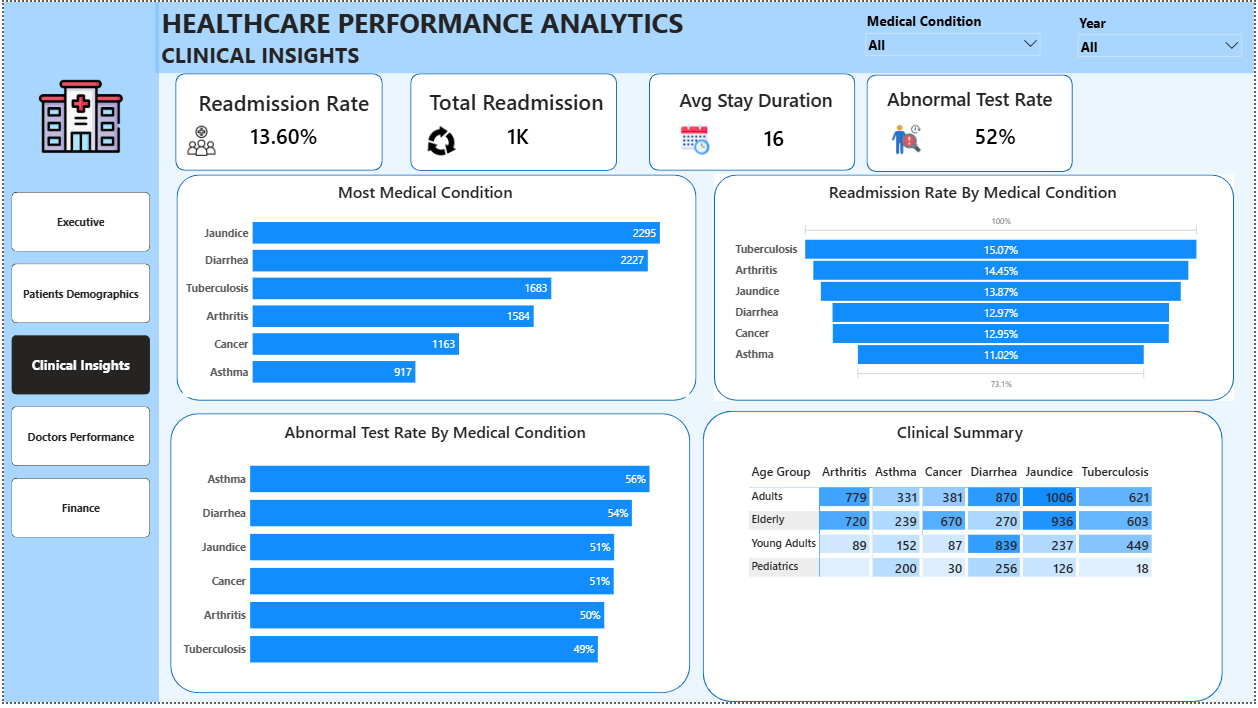

Layout of this report page (visuals, bound fields, positions):
{"tool":"powerbi","page":{"name":"Clinical Insights","canvas":[2500,1400],"ordinal":2},"visuals":[{"type":"shape","box":[0,0,310,1400],"z":0},{"type":"shape","box":[1812.5,143,412.5,195],"z":1000},{"type":"shape","box":[302.5,0,2197.5,142.5],"z":2000},{"type":"shape","box":[1290.6,143,412.5,195],"z":3000},{"type":"textbox","box":[310,0,2190,142.5],"z":4000},{"type":"shape","box":[813.7,142.5,413.6,195.5],"z":5000},{"type":"slicer","fields":{"Values":["Healthcare Dataset.Medical Condition"]},"box":[1713.6,15,370,102.5],"z":6000},{"type":"shape","box":[342.9,142.5,415,195],"z":7000},{"type":"slicer","fields":{"Values":["Date_Table.Year"]},"box":[2138.6,17.5,347.5,100],"z":8000},{"type":"cardVisual","fields":{"Data":["_Measures.Total Patients"]},"box":[422.9,217.5,275,97.5],"z":9000},{"type":"image","box":[65,145,177.5,167.5],"z":10000},{"type":"textbox","box":[375.4,167.5,370,72.5],"z":11000},{"type":"image","box":[1835,242.5,100,60],"z":12000},{"type":"cardVisual","fields":{"Data":["_Measures.Male Count"]},"box":[897.8,217.5,261.4,97.7],"z":13000},{"type":"image","box":[1332.5,245,100,60],"z":14000},{"type":"textbox","box":[841,165.2,370.5,72.7],"z":15000},{"type":"image","box":[824.1,247.5,100,60],"z":16000},{"type":"cardVisual","fields":{"Data":["_Measures.Female Count"]},"box":[1420.6,220.5,240,100],"z":17000},{"type":"image","box":[345.4,247.5,100,60],"z":18000},{"type":"textbox","box":[1316.7,165.6,372.5,72.5],"z":19000},{"type":"shape","box":[344.6,345.9,1040,452.5],"z":20000},{"type":"cardVisual","fields":{"Data":["_Measures.Avg Age"]},"box":[1942.5,220.5,235,100],"z":21000},{"type":"textbox","box":[574.8,351.6,535,52.5],"z":22000},{"type":"textbox","box":[1837.5,165.5,372.5,72.5],"z":23000},{"type":"shape","box":[1420.2,345,1040,452.5],"z":24000},{"type":"shape","box":[332.5,822.5,1040,560],"z":25000},{"type":"shape","box":[1397.5,817.5,1040,582.5],"z":26000},{"type":"textbox","box":[528.8,832.5,665,55],"z":27000},{"type":"textbox","box":[1624.7,352.5,625,52.5],"z":28000},{"type":"textbox","box":[1631.2,825,550,52.5],"z":29000},{"type":"pageNavigator","box":[15,380,277.5,695],"z":30000},{"type":"clusteredBarChart","title":"Most Medical Condition","fields":{"Category":["Healthcare Dataset.Medical Condition"],"Y":["_Measures.Total Patients"]},"box":[357.5,405,1012.5,385],"z":32000},{"type":"funnel","fields":{"Category":["Healthcare Dataset.Medical Condition"],"Y":["_Measures.Readmission Rate"]},"box":[1457.5,417.5,937.5,365],"z":33000},{"type":"pivotTable","fields":{"Rows":["Healthcare Dataset.Age Group"],"Columns":["Healthcare Dataset.Medical Condition"],"Values":["_Measures.Total Patients"]},"box":[1500,932.5,867.5,377.5],"z":34000},{"type":"barChart","fields":{"Y":["_Measures.Abnormal Test Rate %"],"Category":["Healthcare Dataset.Medical Condition"]},"box":[352.5,887.5,992.5,467.5],"z":35000}]}

Visuals, with their boxes in screenshot pixels (x1, y1, x2, y2), scaled from the page's 2500x1400 canvas onto the 1258x708 screenshot:
shape: Rect(0, 0, 156, 707)
shape: Rect(912, 72, 1120, 171)
shape: Rect(152, 0, 1257, 72)
shape: Rect(649, 72, 857, 171)
textbox: Rect(156, 0, 1257, 72)
shape: Rect(409, 72, 618, 171)
slicer - Healthcare Dataset.Medical Condition: Rect(862, 8, 1048, 59)
shape: Rect(173, 72, 381, 171)
slicer - Date_Table.Year: Rect(1076, 9, 1251, 59)
cardVisual - _Measures.Total Patients: Rect(213, 110, 351, 159)
image: Rect(33, 73, 122, 158)
textbox: Rect(189, 85, 375, 121)
image: Rect(923, 123, 974, 153)
cardVisual - _Measures.Male Count: Rect(452, 110, 583, 159)
image: Rect(671, 124, 721, 154)
textbox: Rect(423, 84, 610, 120)
image: Rect(415, 125, 465, 156)
cardVisual - _Measures.Female Count: Rect(715, 112, 836, 162)
image: Rect(174, 125, 224, 156)
textbox: Rect(663, 84, 850, 120)
shape: Rect(173, 175, 697, 404)
cardVisual - _Measures.Avg Age: Rect(977, 112, 1096, 162)
textbox: Rect(289, 178, 558, 204)
textbox: Rect(925, 84, 1112, 120)
shape: Rect(715, 174, 1238, 403)
shape: Rect(167, 416, 691, 699)
shape: Rect(703, 413, 1227, 707)
textbox: Rect(266, 421, 601, 449)
textbox: Rect(818, 178, 1132, 205)
textbox: Rect(821, 417, 1098, 444)
pageNavigator: Rect(8, 192, 147, 544)
"Most Medical Condition" clusteredBarChart: Rect(180, 205, 689, 400)
funnel - Healthcare Dataset.Medical Condition x _Measures.Readmission Rate: Rect(733, 211, 1205, 396)
pivotTable - Healthcare Dataset.Age Group x Healthcare Dataset.Medical Condition: Rect(755, 472, 1191, 662)
barChart - _Measures.Abnormal Test Rate % x Healthcare Dataset.Medical Condition: Rect(177, 449, 677, 685)
